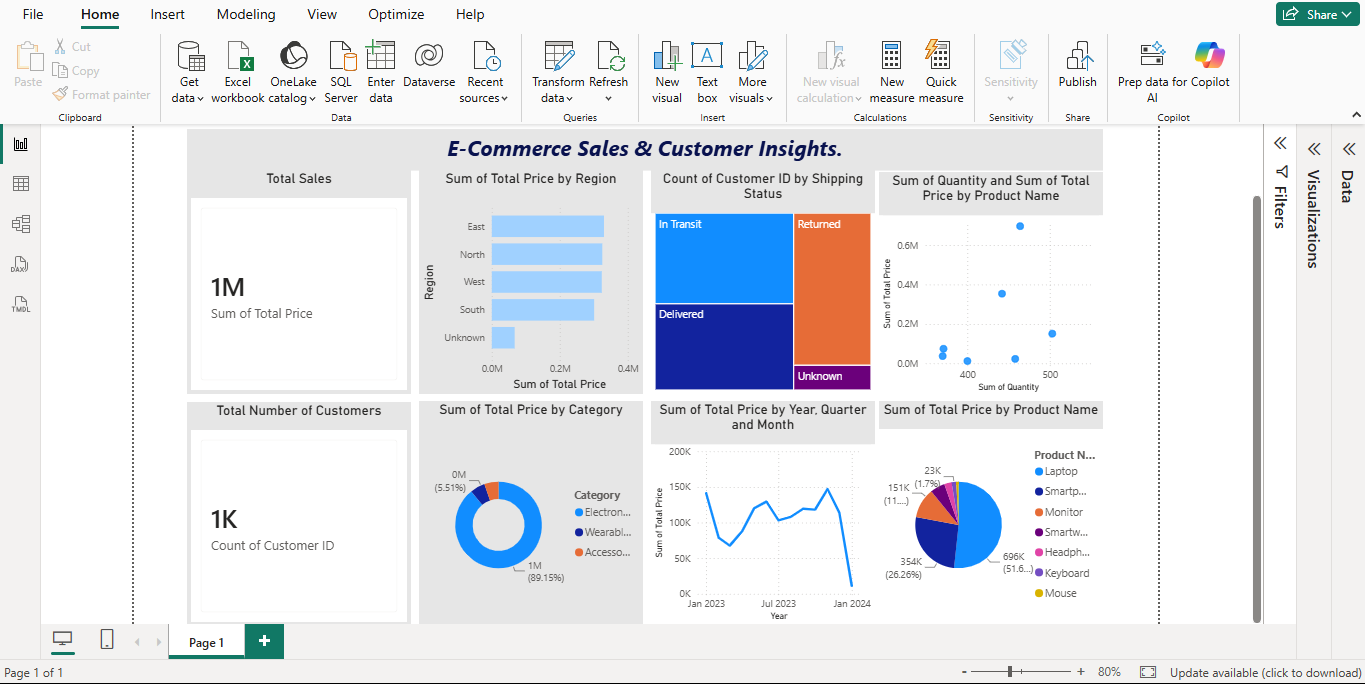

What the dashboard file says about the page in this screenshot:
{"tool":"powerbi","page":{"name":"Page 1","canvas":[1280,720],"ordinal":0},"visuals":[{"type":"cardVisual","title":"Total Sales","fields":{"Data":["Sum(Cleaned_Ecommerce_Data.Total Price)"]},"box":[66.7,150.9,280,280],"z":0},{"type":"cardVisual","title":"Total Number of Customers","fields":{"Data":["CountNonNull(Cleaned_Ecommerce_Data.Customer ID)"]},"box":[66.7,440.7,280,280],"z":1000},{"type":"clusteredBarChart","fields":{"Category":["Cleaned_Ecommerce_Data.Region"],"Y":["Sum(Cleaned_Ecommerce_Data.Total Price)"]},"box":[356.7,151.3,280,280],"z":2000},{"type":"donutChart","fields":{"Category":["Cleaned_Ecommerce_Data.Category"],"Y":["Sum(Cleaned_Ecommerce_Data.Total Price)"]},"box":[356.7,440.3,280,280],"z":3000},{"type":"treemap","fields":{"Group":["Cleaned_Ecommerce_Data.Shipping Status"],"Values":["CountNonNull(Cleaned_Ecommerce_Data.Customer ID)"]},"box":[646.7,151.3,280,280],"z":4000},{"type":"lineChart","fields":{"Category":["Cleaned_Ecommerce_Data.Order Date.Variation.Date Hierarchy.Year","Cleaned_Ecommerce_Data.Order Date.Variation.Date Hierarchy.Quarter","Cleaned_Ecommerce_Data.Order Date.Variation.Date Hierarchy.Month","Cleaned_Ecommerce_Data.Order Date.Variation.Date Hierarchy.Day"],"Y":["Sum(Cleaned_Ecommerce_Data.Total Price)"]},"box":[646.7,440.3,280,280],"z":5000},{"type":"scatterChart","fields":{"Y":["Sum(Cleaned_Ecommerce_Data.Total Price)"],"X":["Sum(Cleaned_Ecommerce_Data.Quantity)"],"Category":["Cleaned_Ecommerce_Data.Product Name"]},"box":[931.7,153.3,280,280],"z":6000},{"type":"pieChart","fields":{"Category":["Cleaned_Ecommerce_Data.Product Name"],"Y":["Sum(Cleaned_Ecommerce_Data.Total Price)"]},"box":[931.7,440,280,280],"z":7000},{"type":"textbox","box":[66.7,100,1145,51.7],"z":8000}]}

Visuals, with their boxes in screenshot pixels (x1, y1, x2, y2):
"Total Sales" cardVisual: BBox(183, 141, 445, 403)
"Total Number of Customers" cardVisual: BBox(183, 412, 445, 674)
clusteredBarChart - Cleaned_Ecommerce_Data.Region x Sum(Cleaned_Ecommerce_Data.Total Price): BBox(454, 141, 716, 403)
donutChart - Cleaned_Ecommerce_Data.Category x Sum(Cleaned_Ecommerce_Data.Total Price): BBox(454, 412, 716, 673)
treemap - Cleaned_Ecommerce_Data.Shipping Status x CountNonNull(Cleaned_Ecommerce_Data.Customer ID): BBox(725, 141, 987, 403)
lineChart - Cleaned_Ecommerce_Data.Order Date.Variation.Date Hierarchy.Year x Cleaned_Ecommerce_Data.Order Date.Variation.Date Hierarchy.Quarter: BBox(725, 412, 987, 673)
scatterChart - Sum(Cleaned_Ecommerce_Data.Total Price) x Sum(Cleaned_Ecommerce_Data.Quantity): BBox(992, 143, 1254, 405)
pieChart - Cleaned_Ecommerce_Data.Product Name x Sum(Cleaned_Ecommerce_Data.Total Price): BBox(992, 411, 1254, 673)
textbox: BBox(183, 93, 1254, 142)
